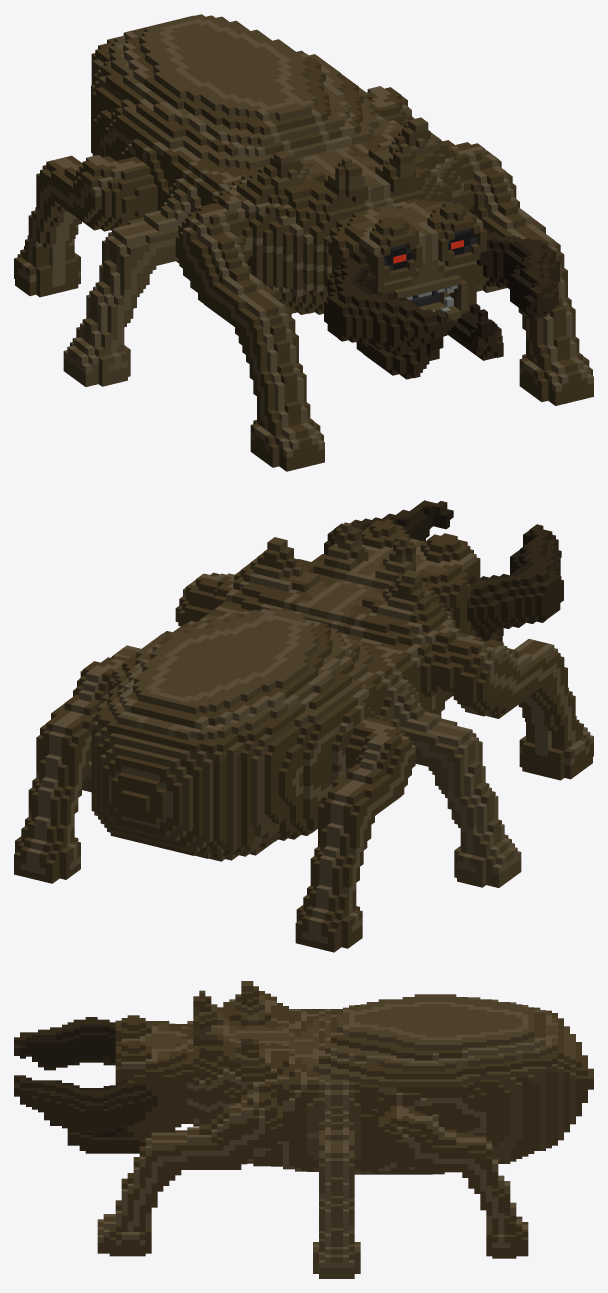
Rendered from brown_beetle_2.1.obj.
3 views of the same model, one above another, from view 1: azimuth 30°, elevation 25°; view 2: azimuth 150°, elevation 25°; view 3: azimuth 270°, elevation 25° (orthographic). The views are drawn at different scales.
Size of the model in its own units: 6.8 by 3.5 by 9.7.
Materials: 1 (1 with a texture image).
